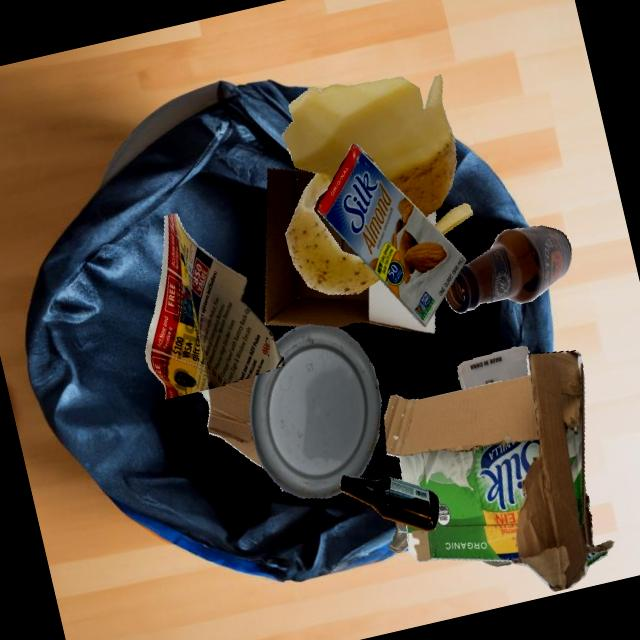biowaste: (281, 74, 456, 294)
cardboard: (384, 350, 613, 592), (264, 167, 434, 333), (316, 143, 465, 326), (342, 224, 434, 293), (200, 374, 263, 468)
glass: (444, 225, 571, 313), (340, 474, 439, 531), (387, 521, 408, 552), (481, 560, 512, 566)
paper: (145, 213, 284, 399)
plastic: (249, 324, 381, 497), (457, 346, 530, 389)
